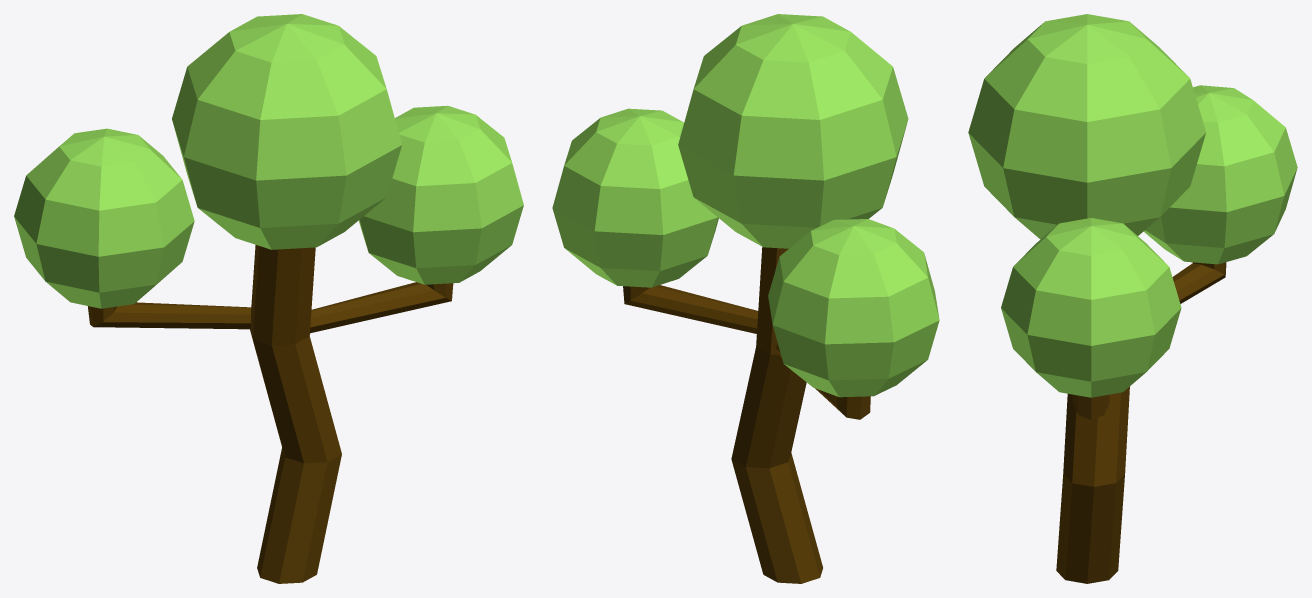
Rendered from Tree birch small.fbx.
3 renders of one model, left to right at view 1: azimuth 30°, elevation 25°; view 2: azimuth 150°, elevation 25°; view 3: azimuth 270°, elevation 25°, orthographic.
Visible parts, largest first — view 1: Tree birch; view 2: Tree birch; view 3: Tree birch.
Boxes of the visible parts, left/top/right/bottom form: Tree birch: left=14, top=14, right=523, bottom=583; Tree birch: left=552, top=14, right=939, bottom=583; Tree birch: left=968, top=14, right=1297, bottom=583.
Bounding box in the file's own units: 415 × 507 × 277.
